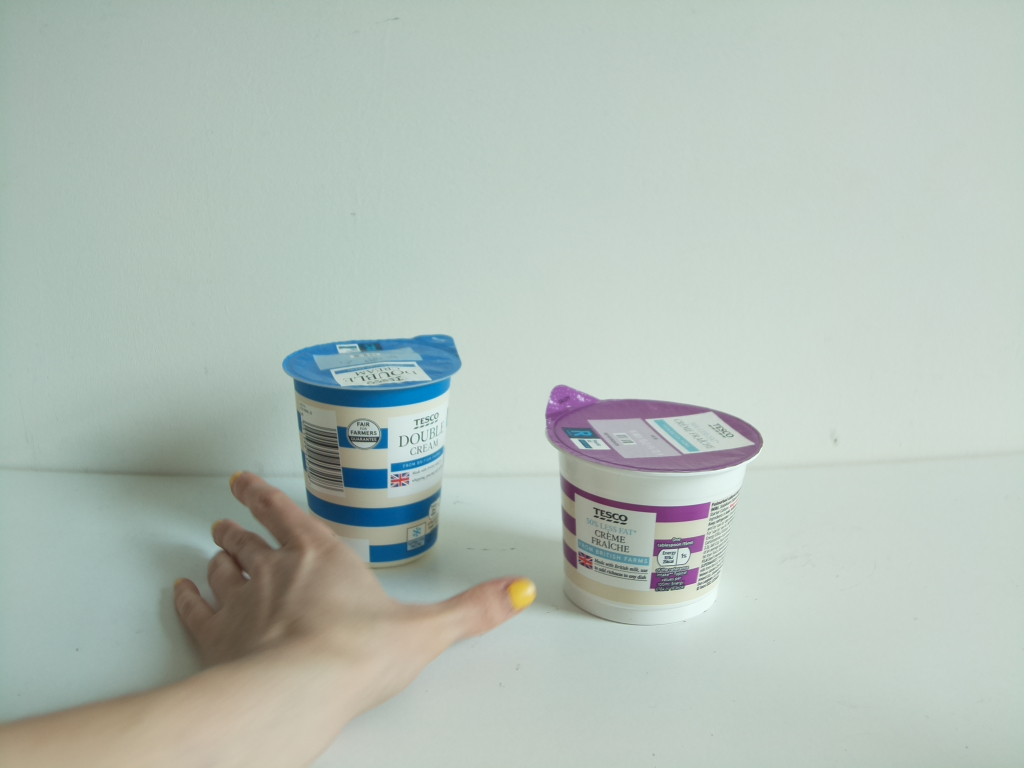cream: (549, 380, 763, 626), (282, 335, 463, 575)
